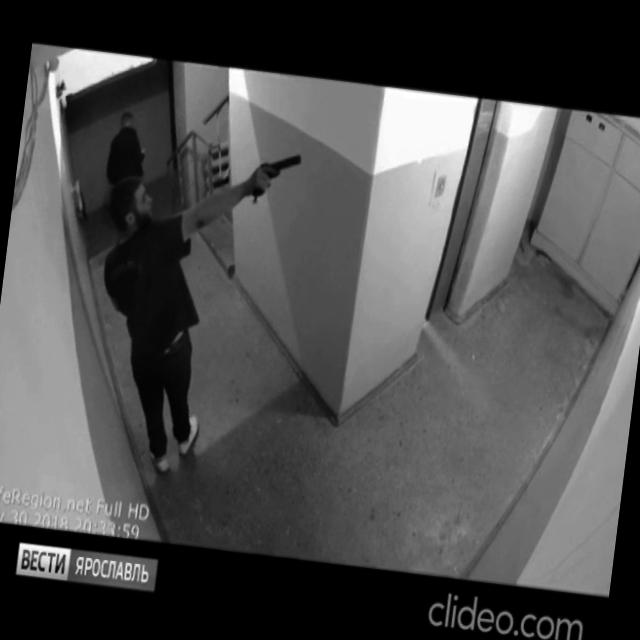gun: (249, 146, 304, 204)
person: (100, 108, 158, 240)
person with a gun: (73, 130, 304, 488)
